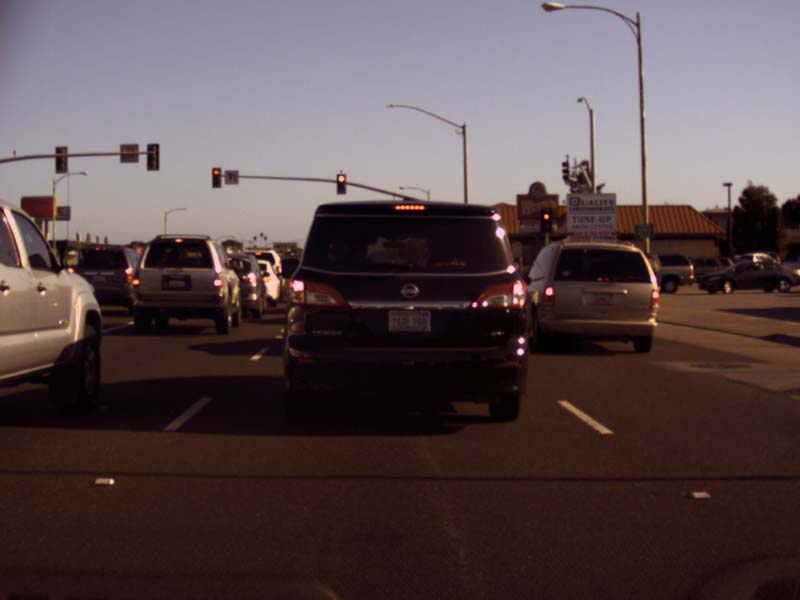Red: (540, 207, 551, 231), (210, 168, 222, 188), (336, 173, 346, 194)
